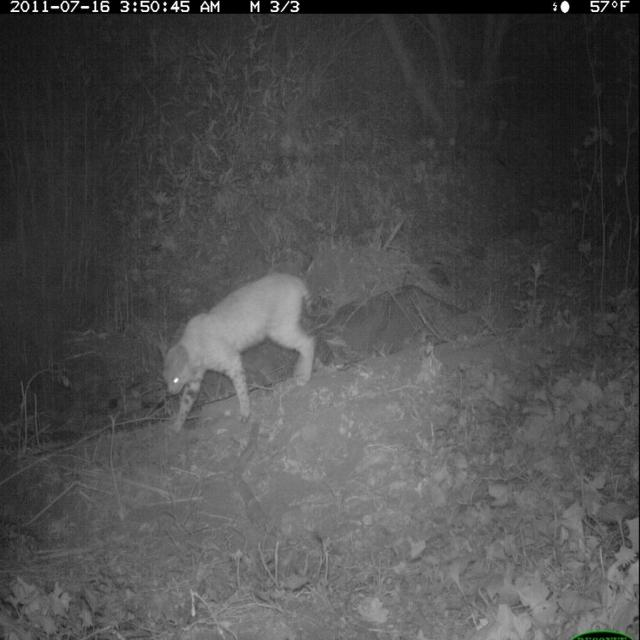bobcat: (151, 267, 324, 439)
